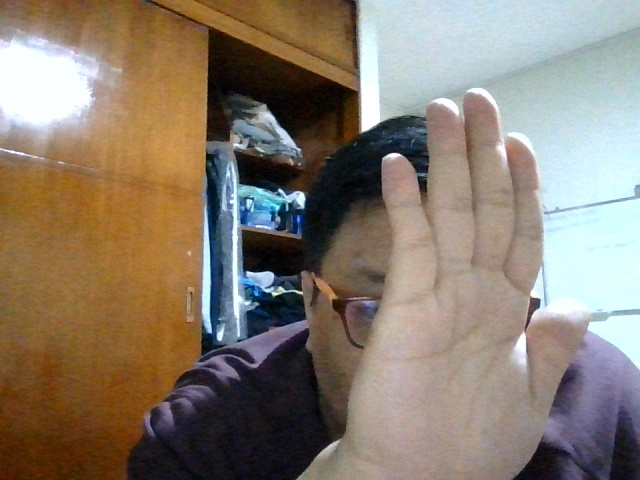hola: (376, 88, 590, 473)
